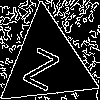Z: (21, 37, 65, 92)
